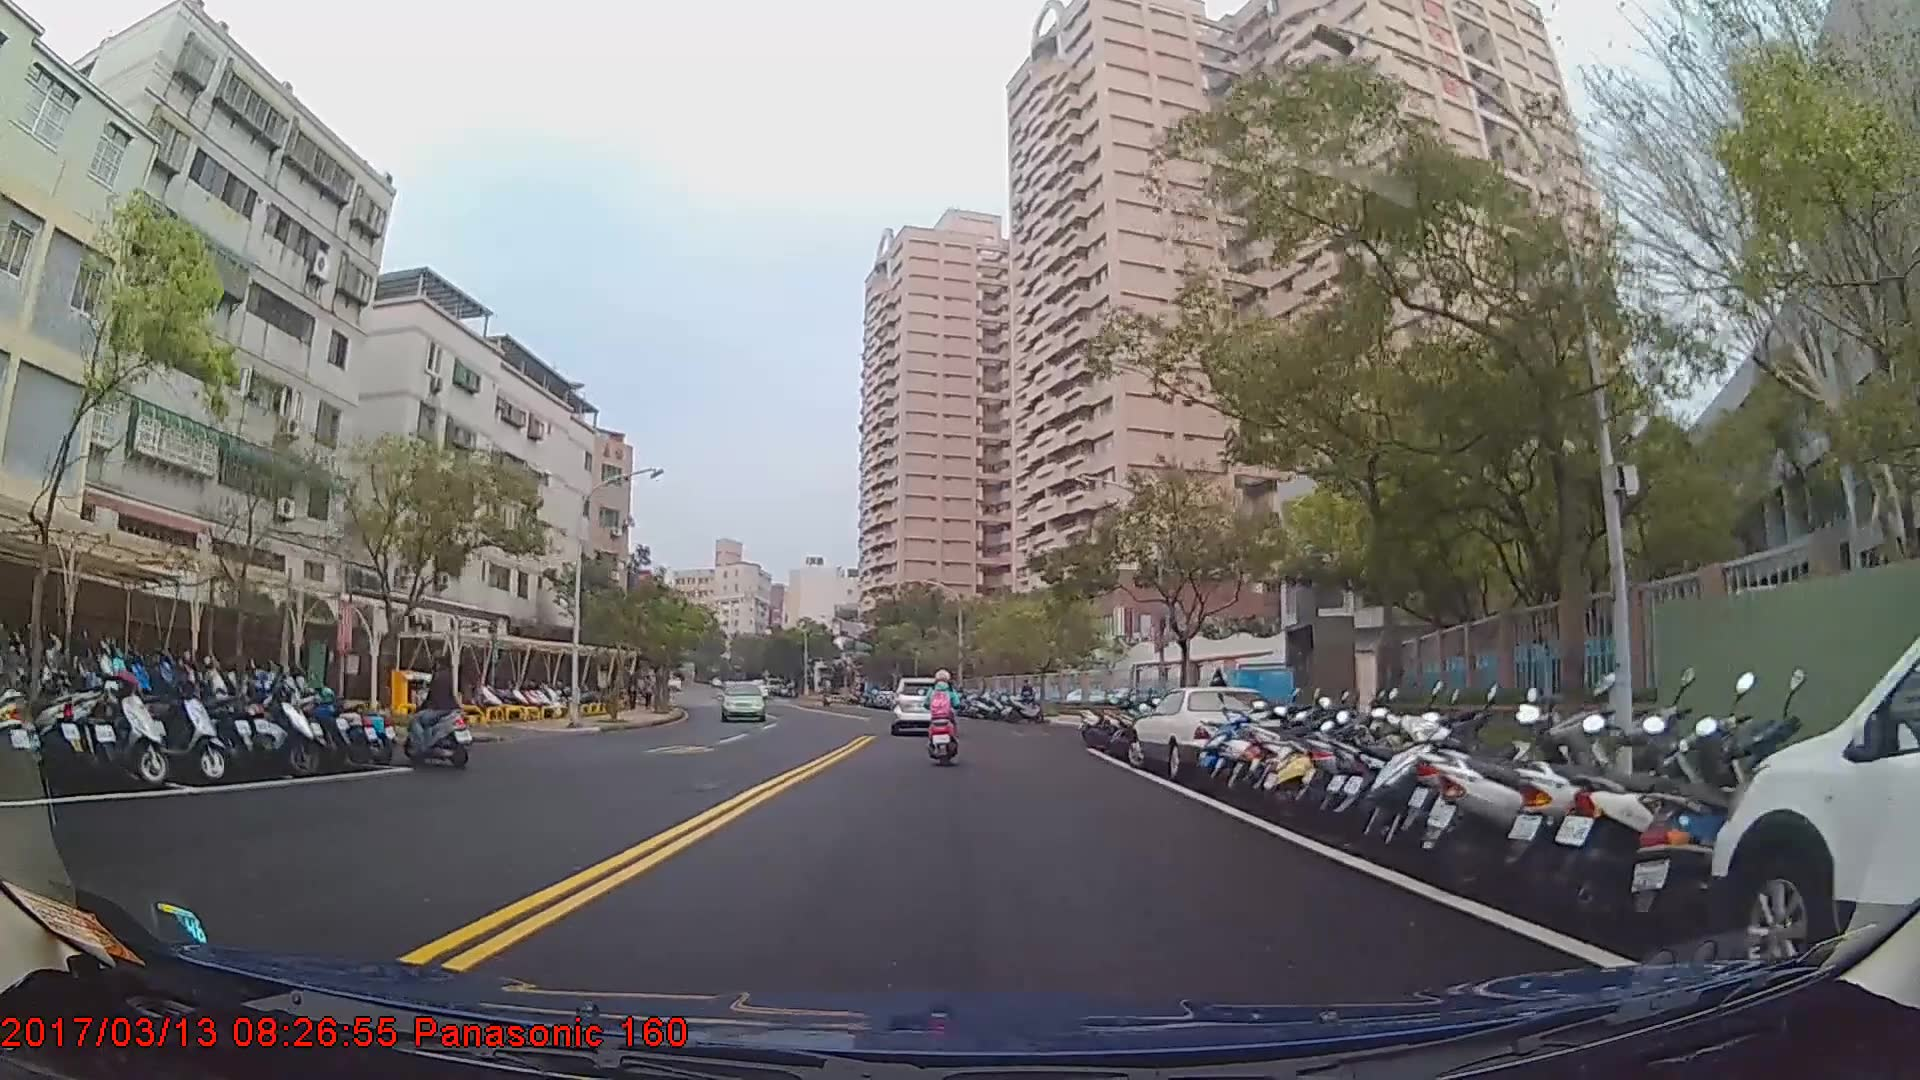pedestrian: (1210, 668, 1232, 725)
rider: (406, 649, 466, 764), (924, 665, 964, 769)
vehicle: (1709, 555, 1920, 995), (1127, 685, 1283, 780), (886, 674, 952, 732), (718, 679, 768, 723)
